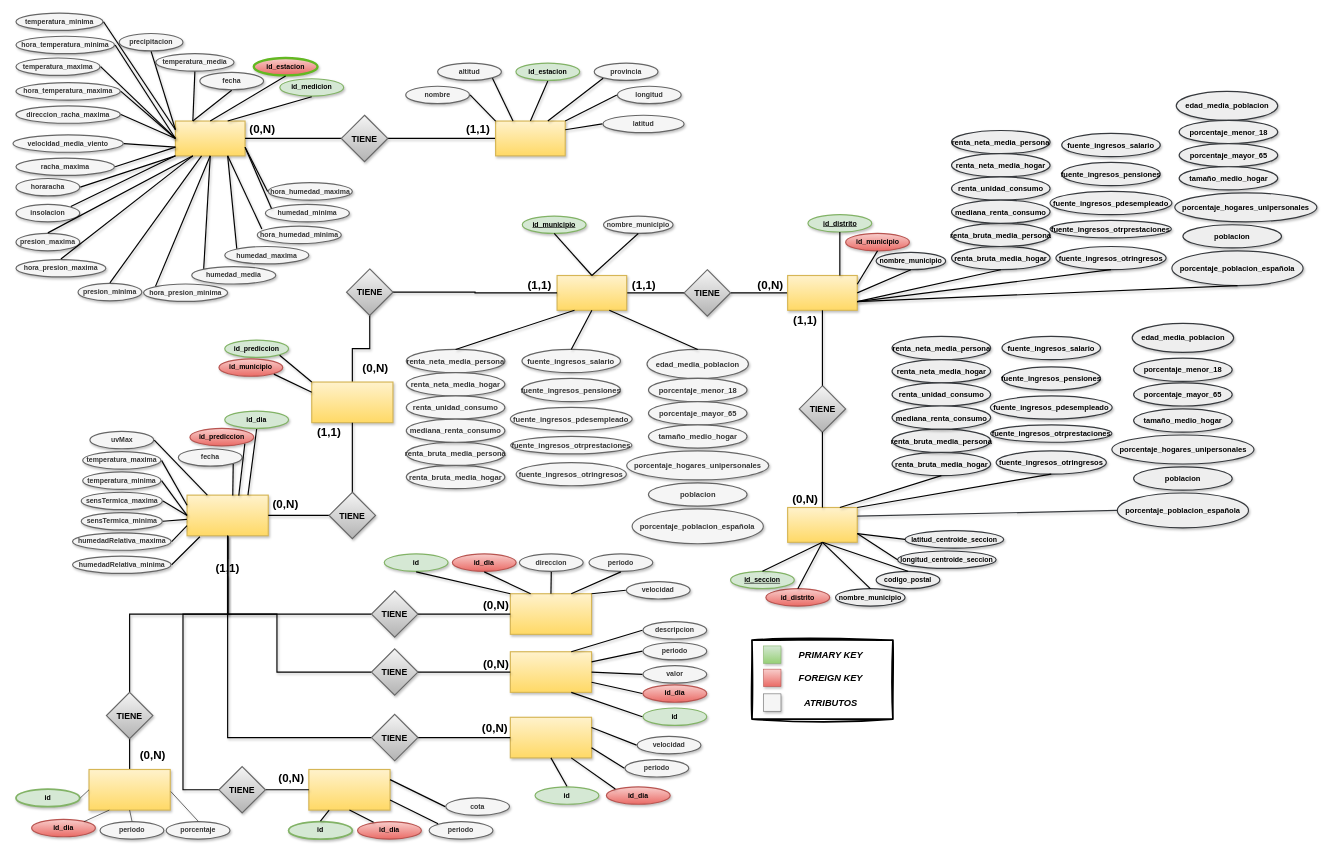
Image size: 1331x854. Some labels were removed from this diagram. Each missing label, with the centre of its shape:
"CotaNieveProv" goes at point 350,790.
"DIA" goes at point 228,516.
"DISTRITOS" goes at point 822,293.
"ESTACIONES" goes at point 530,139.
"EstadoCielo" goes at point 551,673.
"MEDICIONES" goes at point 210,139.
"MUNICIPIOS" goes at point 592,293.
"PREDICCION" goes at point 353,403.
"ProbPrecipitacion" goes at point 130,790.
"RachaMax" goes at point 551,738.
"SECCIONES" goes at point 822,525.
"Viento" goes at point 551,615.
